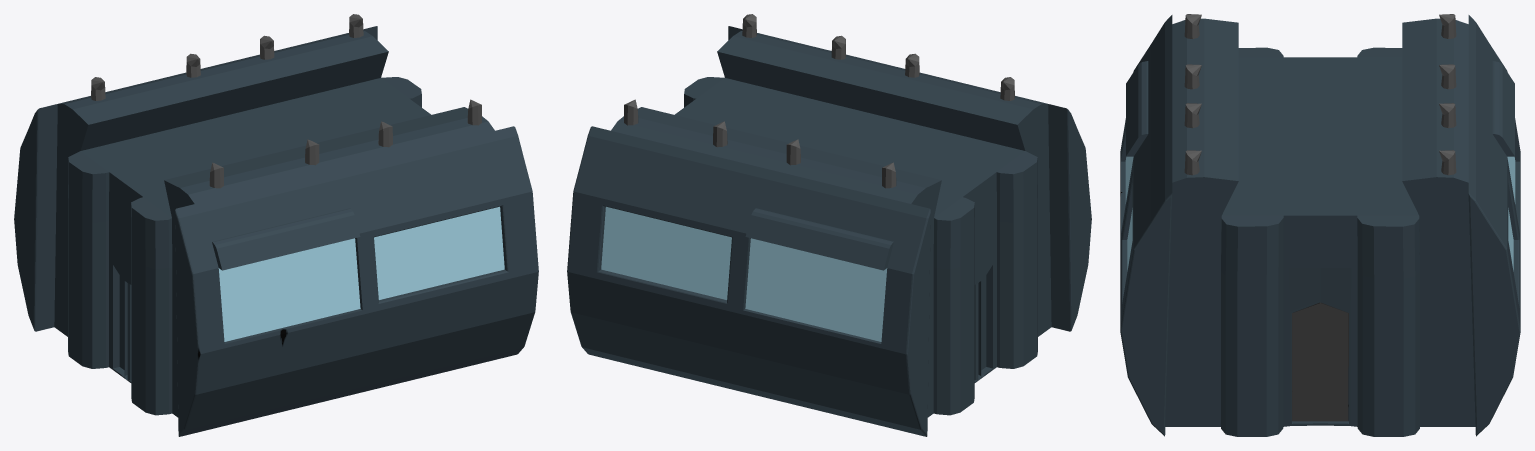
Rendered from Estructura_03.fbx.
The picture shows the model from 3 angles, left to right: view 1: azimuth 30°, elevation 25°; view 2: azimuth 150°, elevation 25°; view 3: azimuth 270°, elevation 25°; orthographic projection. The views are drawn at different scales.
Parts seen in each view (by area): view 1: Zona soldados.003; view 2: Zona soldados.003; view 3: Zona soldados.003.
Boxes of the visible parts, x1,y1,x2,y2 form: Zona soldados.003: (14, 14, 538, 436); Zona soldados.003: (567, 14, 1091, 436); Zona soldados.003: (1120, 14, 1520, 436).
Bounding box in the file's own units: 508 × 357 × 479.
Materials: 1 (1 with a texture image).
